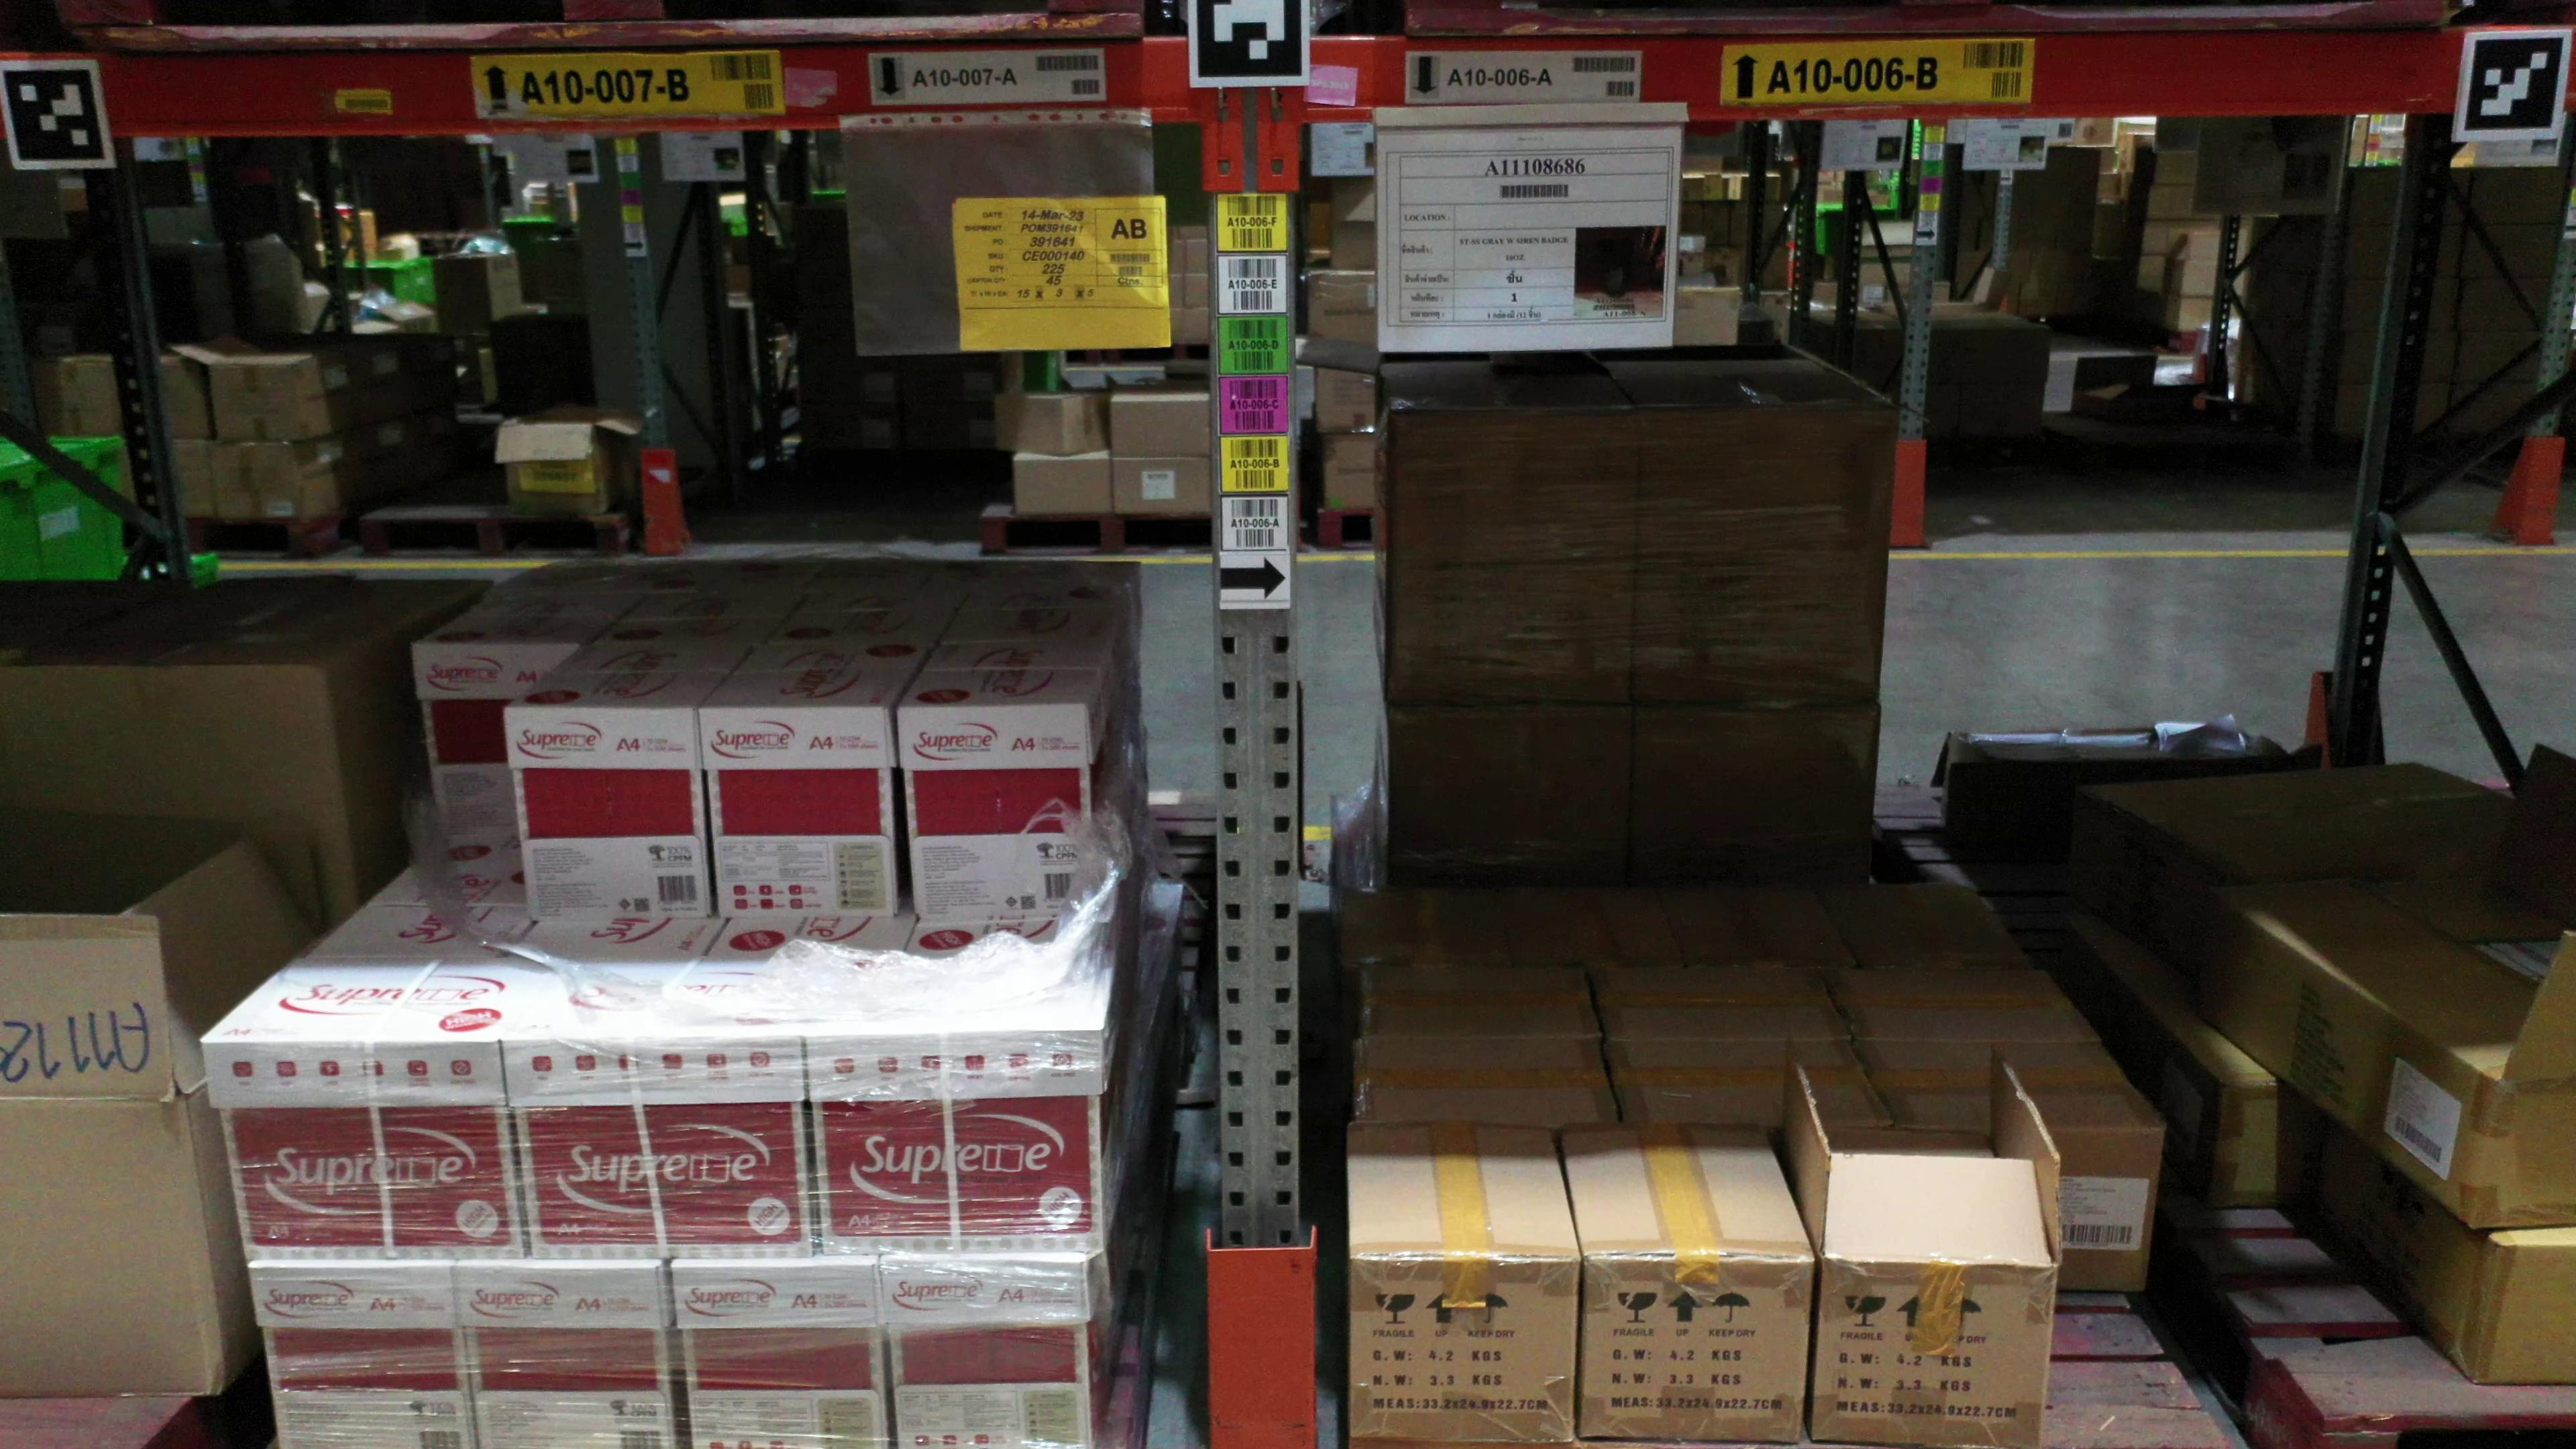-: (203, 1040, 525, 1265), (0, 1093, 226, 1401), (502, 1040, 819, 1260), (807, 1035, 1108, 1256), (1808, 1256, 2058, 1449), (1576, 1256, 1815, 1447), (501, 704, 713, 916), (895, 704, 1100, 916), (1348, 1256, 1583, 1440), (251, 1263, 481, 1449), (455, 1261, 681, 1449), (702, 709, 899, 918), (671, 1263, 888, 1449), (881, 1261, 1093, 1449), (412, 644, 577, 833), (2468, 1077, 2576, 1230), (2466, 1247, 2576, 1384)
box: (1629, 409, 1897, 566), (1387, 409, 1638, 573), (1629, 706, 1882, 867), (1387, 706, 1637, 862), (1629, 566, 1890, 713), (1384, 566, 1637, 711)
